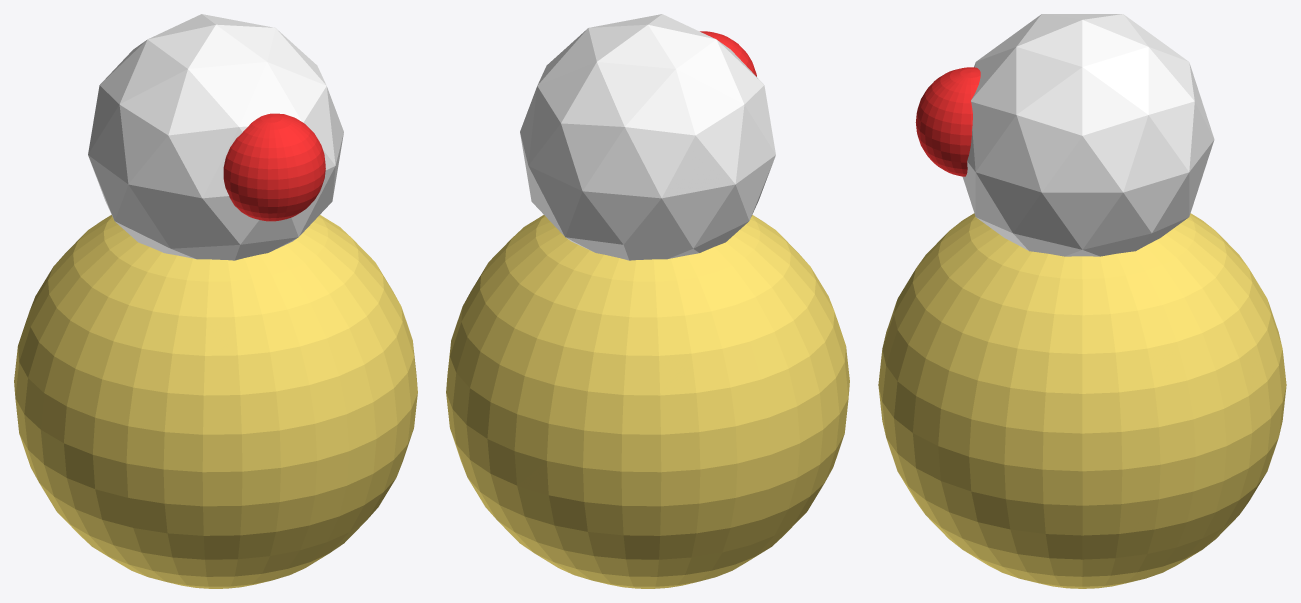
The model's file is kariSpEnemy.obj.
3 views of the same model, side by side, from view 1: azimuth 30°, elevation 25°; view 2: azimuth 150°, elevation 25°; view 3: azimuth 270°, elevation 25° (orthographic).
Visible parts, largest first — view 1: 球.001; view 2: 球.001; view 3: 球.001.
Part boxes in pixels (x1,y1,x2,y2): 球.001: (14, 14, 417, 588); 球.001: (446, 14, 849, 588); 球.001: (878, 14, 1286, 588).
Bounding box in the file's own units: 1.6 × 2.38 × 1.6.
1 material, 1 textured.
